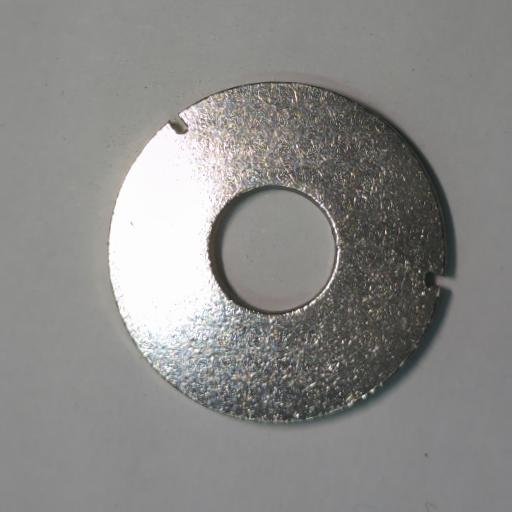burr: (423, 270, 446, 290), (168, 115, 189, 135)
